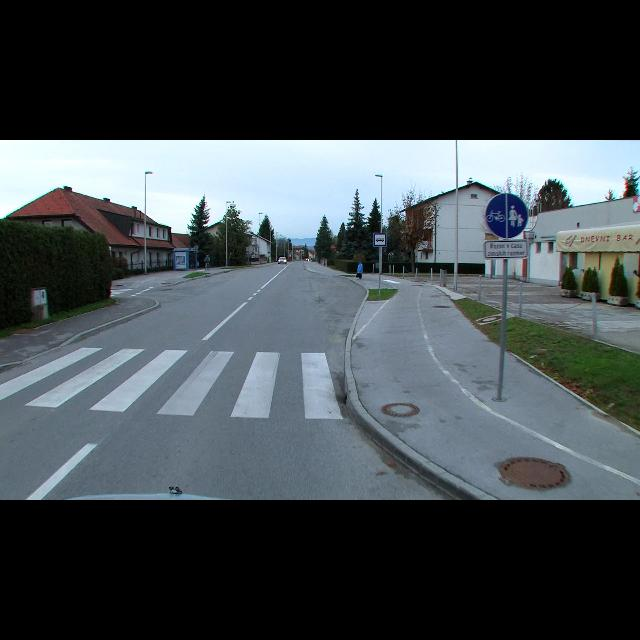Rectangle: (484, 240, 530, 258)
Round: (486, 193, 528, 239)
Squared: (374, 230, 388, 248)
